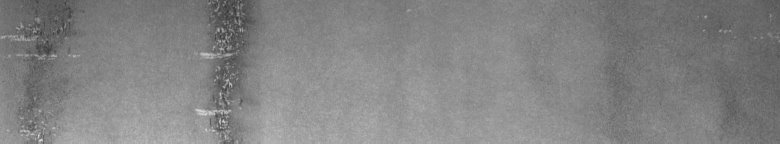hc: (194, 4, 255, 136)
